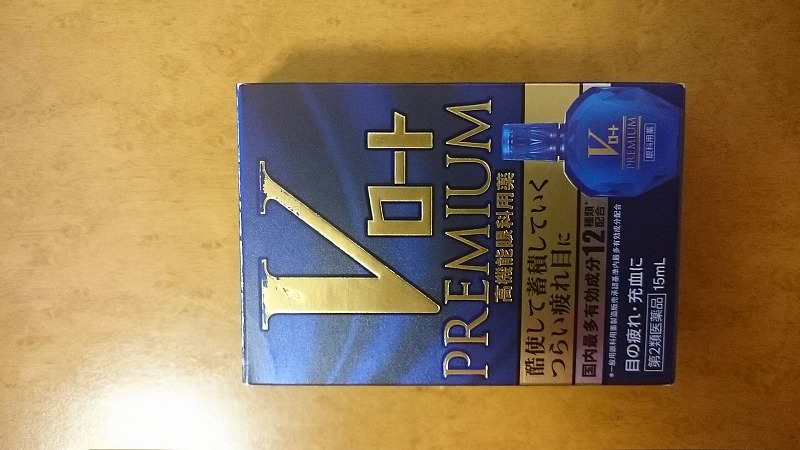D: (233, 82, 693, 391)
